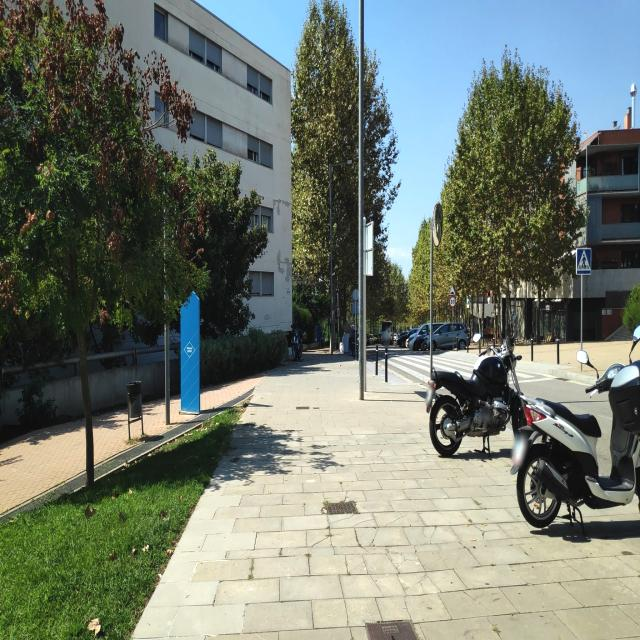bike: (510, 338, 640, 530), (426, 327, 530, 458)
car: (585, 362, 636, 394), (422, 320, 471, 352), (409, 322, 438, 351), (397, 328, 412, 348), (366, 332, 377, 346)
